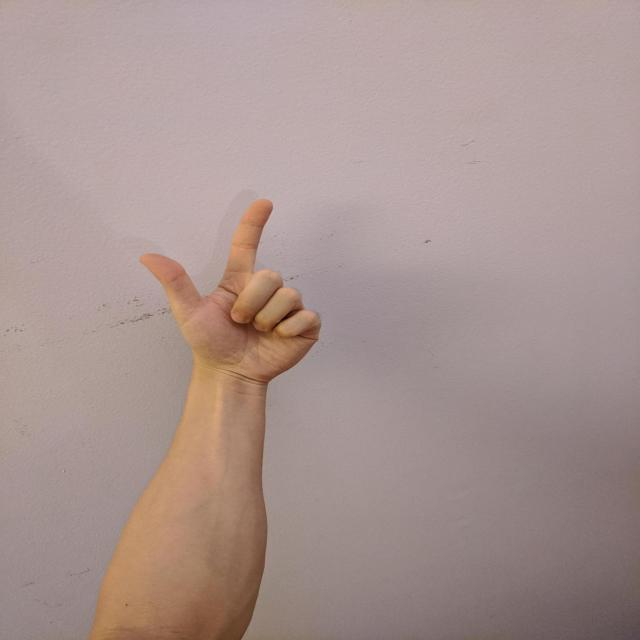L: (132, 195, 327, 384)
